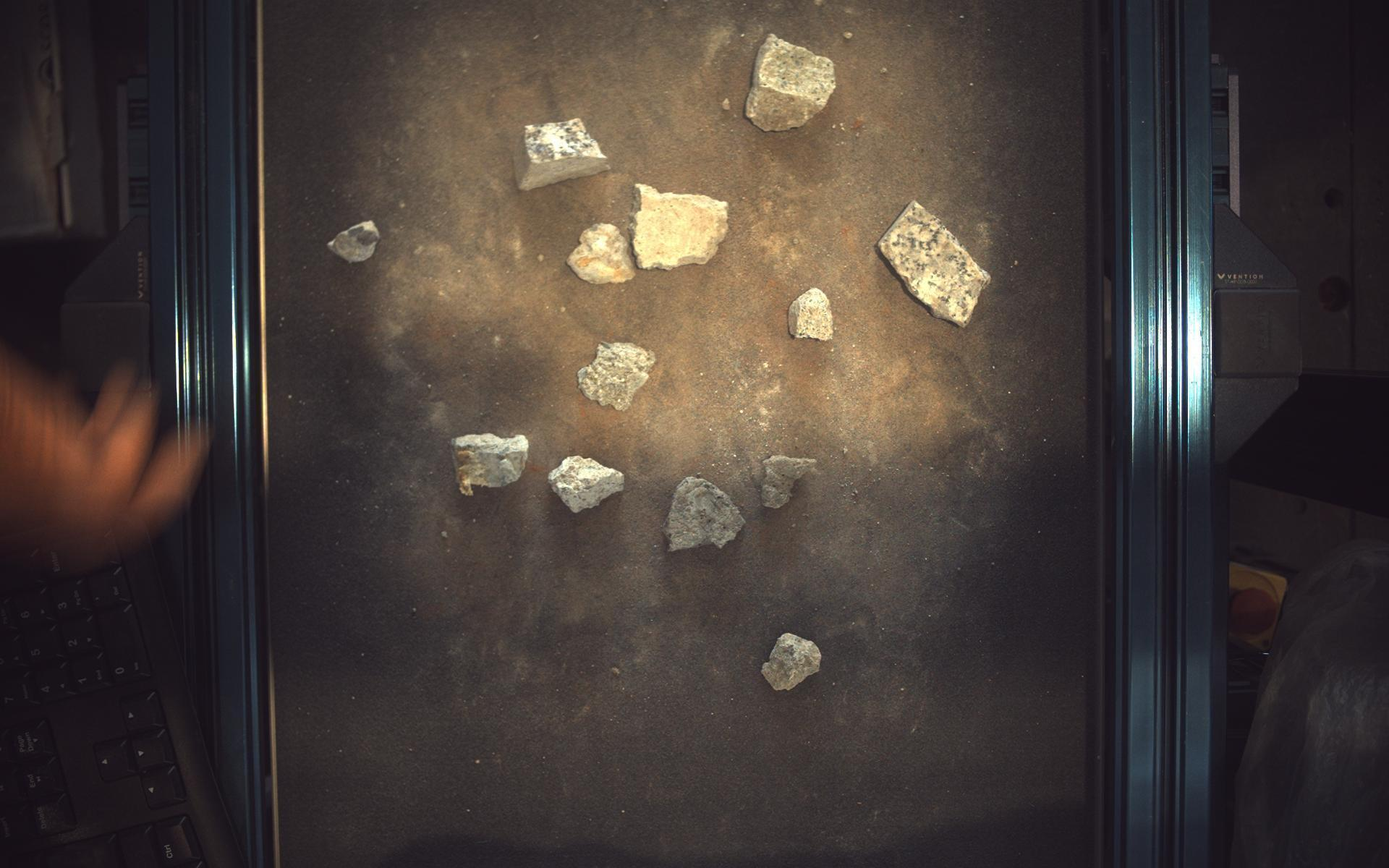concrete: (880, 200, 993, 327), (747, 32, 838, 130), (632, 182, 729, 268), (514, 116, 609, 190), (666, 477, 746, 552), (579, 343, 656, 411), (451, 433, 529, 496), (548, 456, 624, 513), (568, 223, 636, 284), (763, 634, 823, 692), (764, 456, 817, 509), (790, 287, 835, 341), (327, 220, 381, 262)
